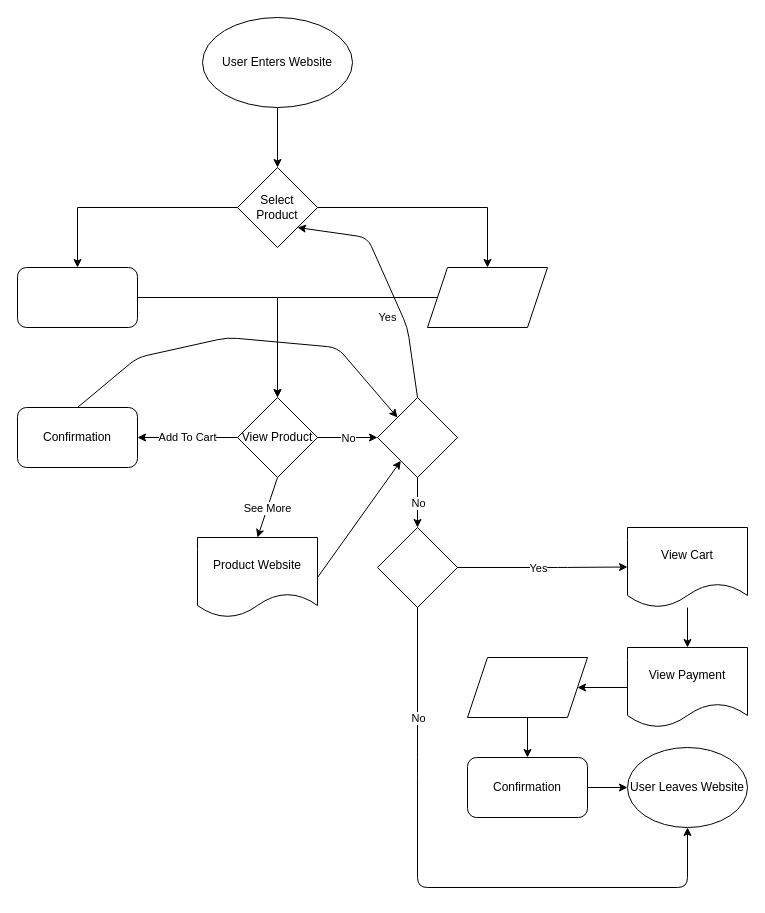
The diagram is 765 pixels wide and 913 high, and some of its shapes have lost their labels. The shapes that lost their labels are listed below. From the top down, each one's box as (x1, y1, x2, y2) in pixels, then its label:
(16, 266, 138, 328): Explore Products in homepage
(426, 266, 548, 328): Input for Search
(376, 396, 458, 478): Continue ?
(376, 526, 458, 608): Checkout ?
(466, 656, 588, 718): Input Payment Information
